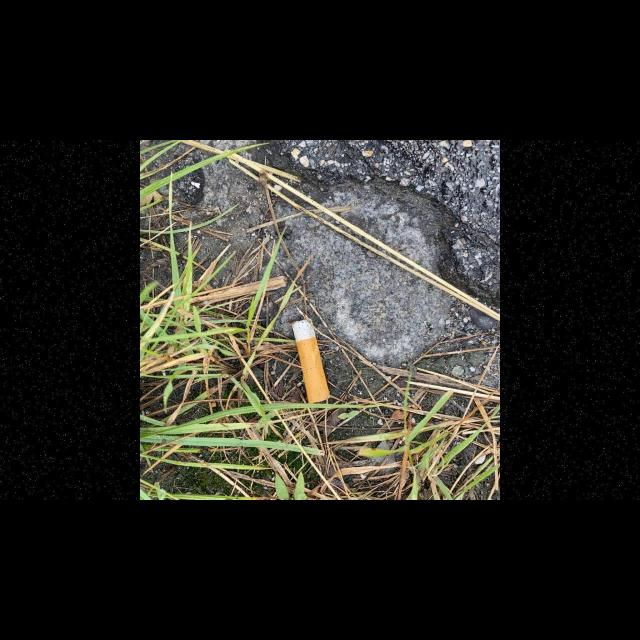cigarette: (291, 318, 331, 404)
